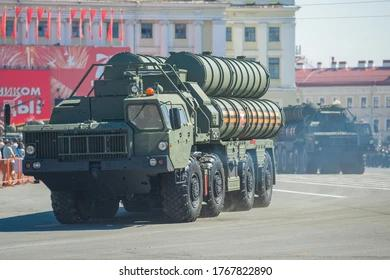MIL_SAM_TEL: (22, 52, 281, 229), (284, 100, 373, 175)
